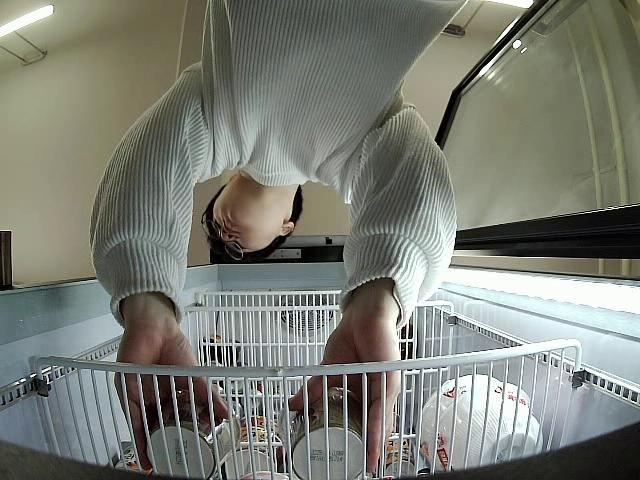04_chapagetti_S: (144, 392, 241, 476), (291, 387, 366, 480)
